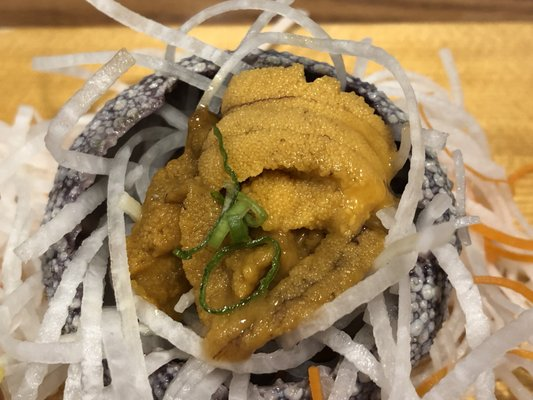soup: (118, 12, 479, 398)
